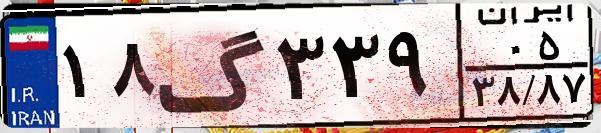0: (508, 27, 537, 80)
1: (57, 26, 110, 100)
3: (270, 28, 330, 110), (330, 28, 385, 110), (470, 70, 495, 125)
5: (537, 27, 568, 80)
7: (560, 70, 590, 125)
8: (110, 28, 156, 98), (495, 70, 520, 125), (535, 70, 560, 125)
9: (385, 28, 445, 110)
گ: (156, 12, 270, 120)
